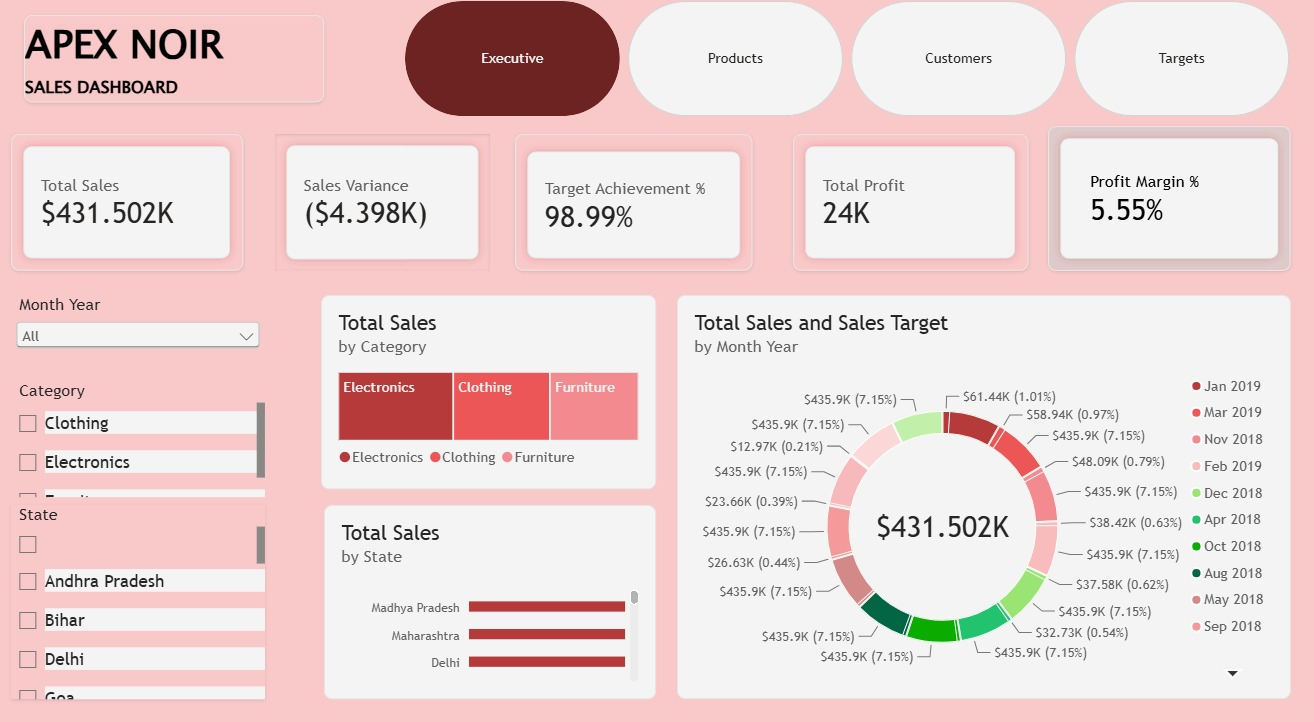

What the dashboard file says about the page in this screenshot:
{"tool":"powerbi","page":{"name":"Executive","canvas":[1280,720],"ordinal":0},"visuals":[{"type":"textbox","box":[25.3,16.5,291.8,84.6],"z":1000},{"type":"pageNavigator","box":[395.9,2.9,863.7,112.8],"z":2000},{"type":"cardVisual","fields":{"Data":["Calendar.Total Sales"]},"box":[12.6,132.3,225.7,133.3],"z":3000},{"type":"cardVisual","fields":{"Data":["Calendar.Total Profit"]},"box":[773.3,132.3,228.6,133.3],"z":4000},{"type":"cardVisual","fields":{"Data":["Calendar.Target Achievement %"]},"box":[502.9,132.3,231.5,133.3],"z":5000},{"type":"cardVisual","fields":{"Data":["Calendar.Sales Variance"]},"box":[269.4,132.3,209.1,133.3],"z":6000},{"type":"cardVisual","fields":{"Data":["Calendar.Profit Margin %"]},"box":[1021.3,124.5,236.4,141],"z":7000},{"type":"donutChart","fields":{"Category":["Calendar.Month Year"],"Y":["Calendar.Total Sales","Calendar.Sales Target"]},"box":[660.2,288.8,597.4,392.9],"z":8000},{"type":"treemap","fields":{"Group":["Category.Category"],"Values":["Calendar.Total Sales"]},"box":[314.3,288.6,325.7,188.6],"z":9000},{"type":"hundredPercentStackedBarChart","fields":{"Category":["List of Orders.State"],"Y":["Calendar.Total Sales"]},"box":[317.1,492.9,322.9,188.6],"z":10000},{"type":"slicer","fields":{"Values":["Calendar.Month Year"]},"box":[12.9,288.6,247.1,71.4],"z":11000},{"type":"slicer","fields":{"Values":["Category.Category"]},"box":[12.9,372.9,247.1,112.9],"z":12000},{"type":"slicer","fields":{"Values":["List of Orders.State"]},"box":[12.9,492.9,247.1,188.6],"z":13000}]}

Visuals, with their boxes in screenshot pixels (x1, y1, x2, y2), scaled from the page's 1280x720 canvas onto the 1314x722 screenshot:
textbox: (26,17,326,101)
pageNavigator: (406,3,1293,116)
cardVisual - Calendar.Total Sales: (13,133,245,266)
cardVisual - Calendar.Total Profit: (794,133,1029,266)
cardVisual - Calendar.Target Achievement %: (516,133,754,266)
cardVisual - Calendar.Sales Variance: (277,133,491,266)
cardVisual - Calendar.Profit Margin %: (1048,125,1291,266)
donutChart - Calendar.Month Year x Calendar.Total Sales: (678,290,1291,684)
treemap - Category.Category x Calendar.Total Sales: (323,289,657,479)
hundredPercentStackedBarChart - List of Orders.State x Calendar.Total Sales: (326,494,657,683)
slicer - Calendar.Month Year: (13,289,267,361)
slicer - Category.Category: (13,374,267,487)
slicer - List of Orders.State: (13,494,267,683)
